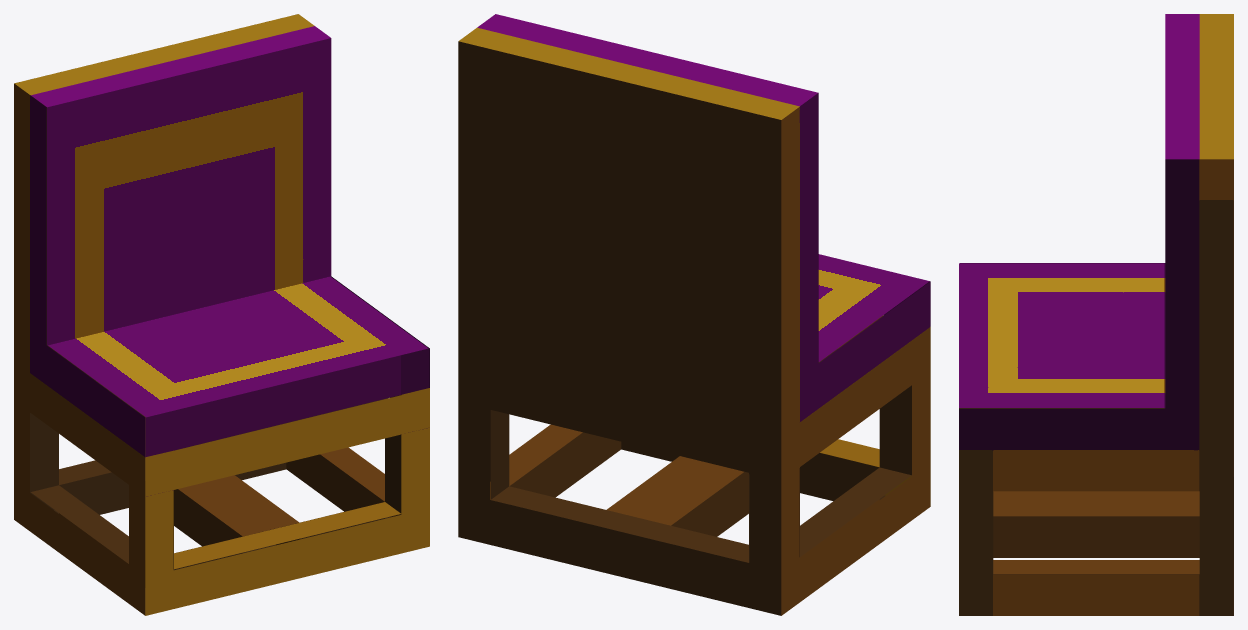
Rendered from chair_369_18.obj.
3 renders of one model, left to right at view 1: azimuth 30°, elevation 25°; view 2: azimuth 150°, elevation 25°; view 3: azimuth 270°, elevation 25°, orthographic. The views are drawn at different scales.
Parts seen in each view (by area): view 1: Chair; view 2: Chair; view 3: Chair.
Part boxes in pixels (x1,y1,x2,y2): Chair: (14, 14, 429, 615); Chair: (458, 14, 930, 615); Chair: (959, 14, 1233, 615).
Bounding box in the file's own units: 1.25 × 1.83 × 1.
